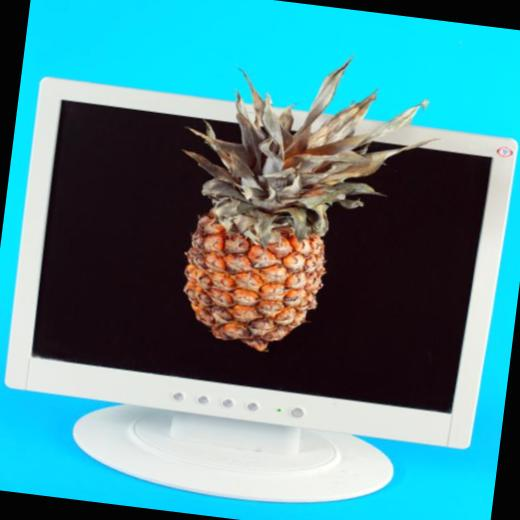Mango: (153, 32, 448, 370)
